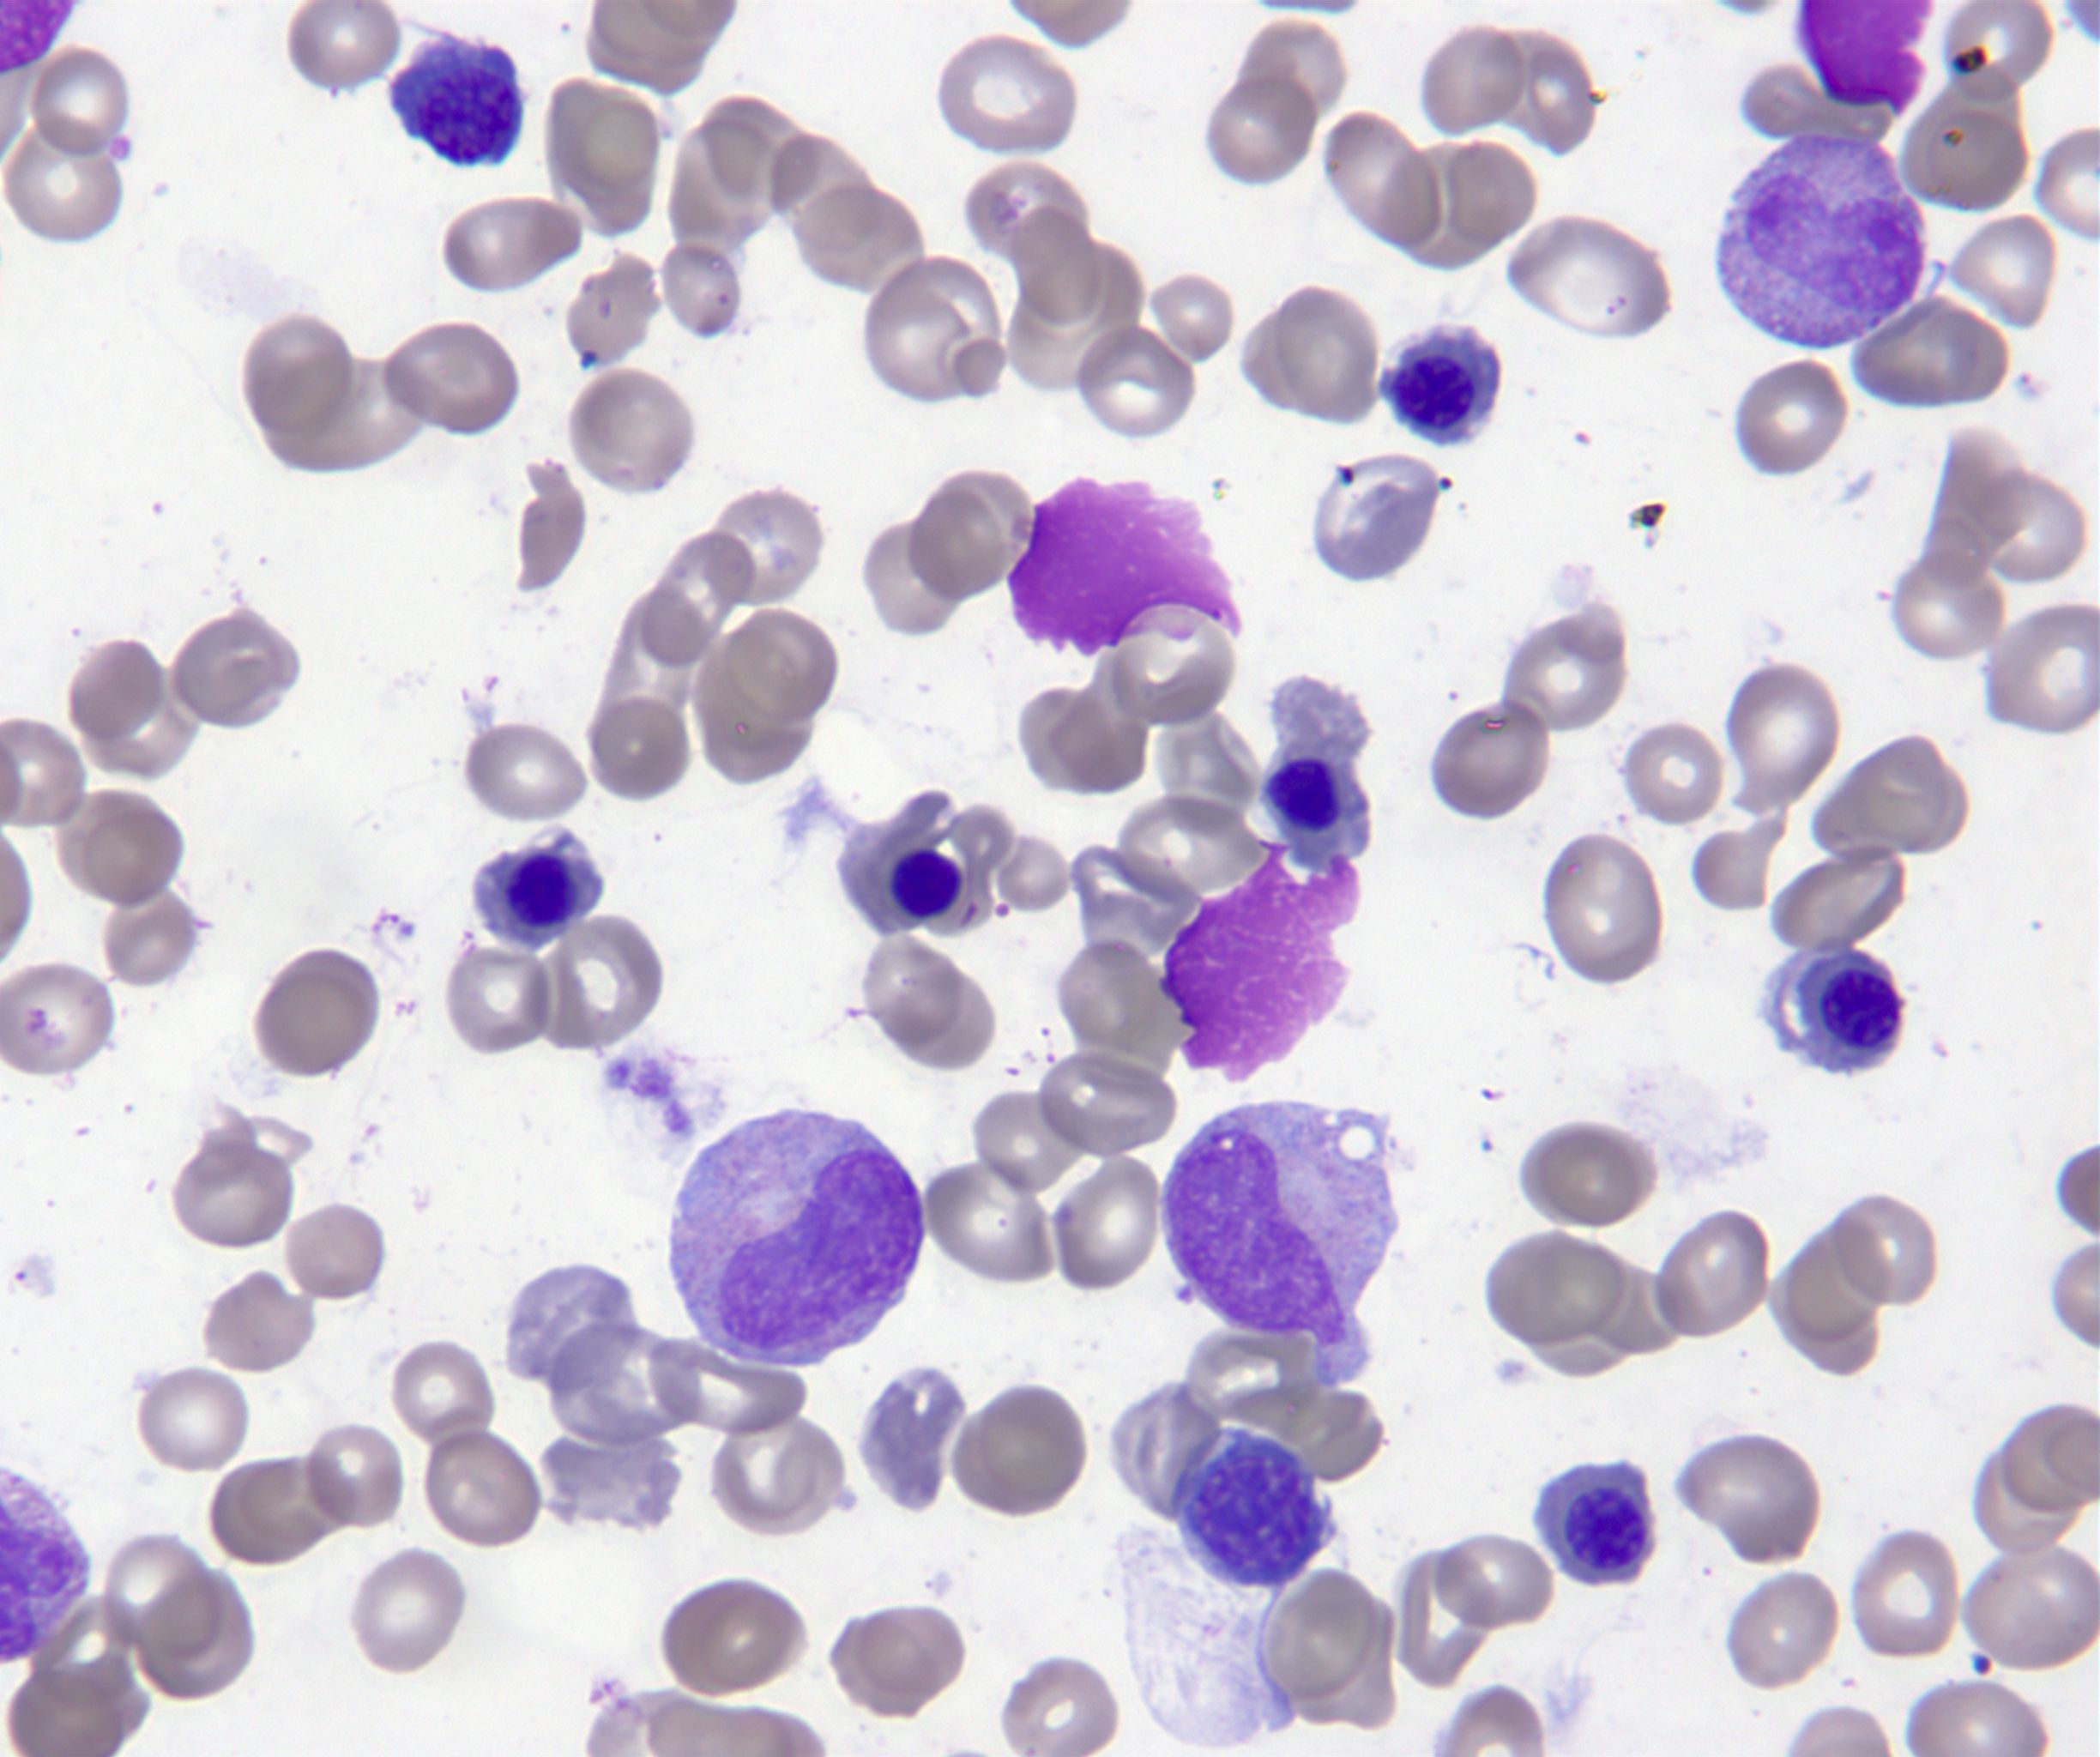23: (1169, 1425, 1340, 1591), (391, 33, 527, 169)
24: (841, 796, 1001, 939), (1259, 680, 1373, 871), (1758, 944, 1903, 1073), (1535, 1462, 1660, 1590), (1373, 323, 1500, 445), (473, 831, 603, 946)
3: (665, 1108, 924, 1368), (1160, 1097, 1395, 1382)
4: (1716, 134, 1927, 351)
x: (1158, 843, 1362, 1082), (1010, 473, 1244, 660)
